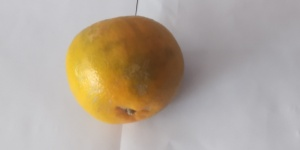BAD: (67, 16, 187, 126)
